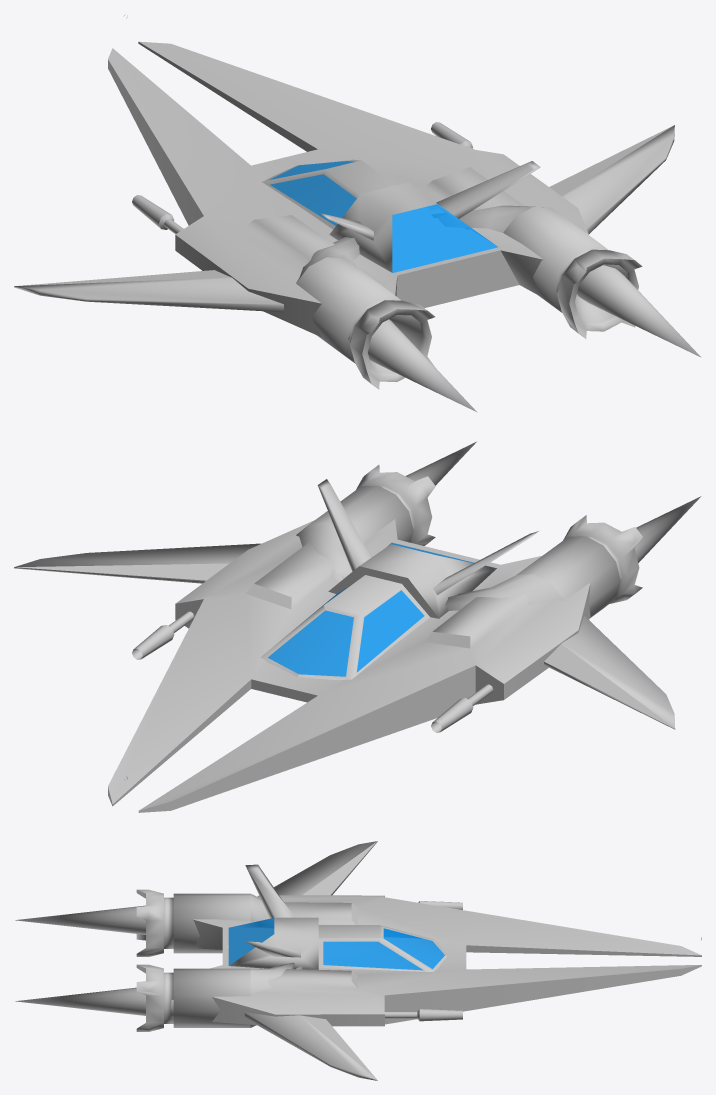
File: X fighter.obj
3 views of the same model, one above another, from view 1: azimuth 30°, elevation 25°; view 2: azimuth 150°, elevation 25°; view 3: azimuth 270°, elevation 25° (orthographic). The views are drawn at different scales.
Parts seen in each view (by area): view 1: (null); view 2: (null); view 3: (null).
Boxes of the visible parts, box(x1,y1,x2,y2) form: (null): box(14, 15, 701, 412); (null): box(14, 441, 701, 812); (null): box(15, 841, 701, 1080).
Bounding box in the file's own units: 55.28 × 9.15 × 67.26.
